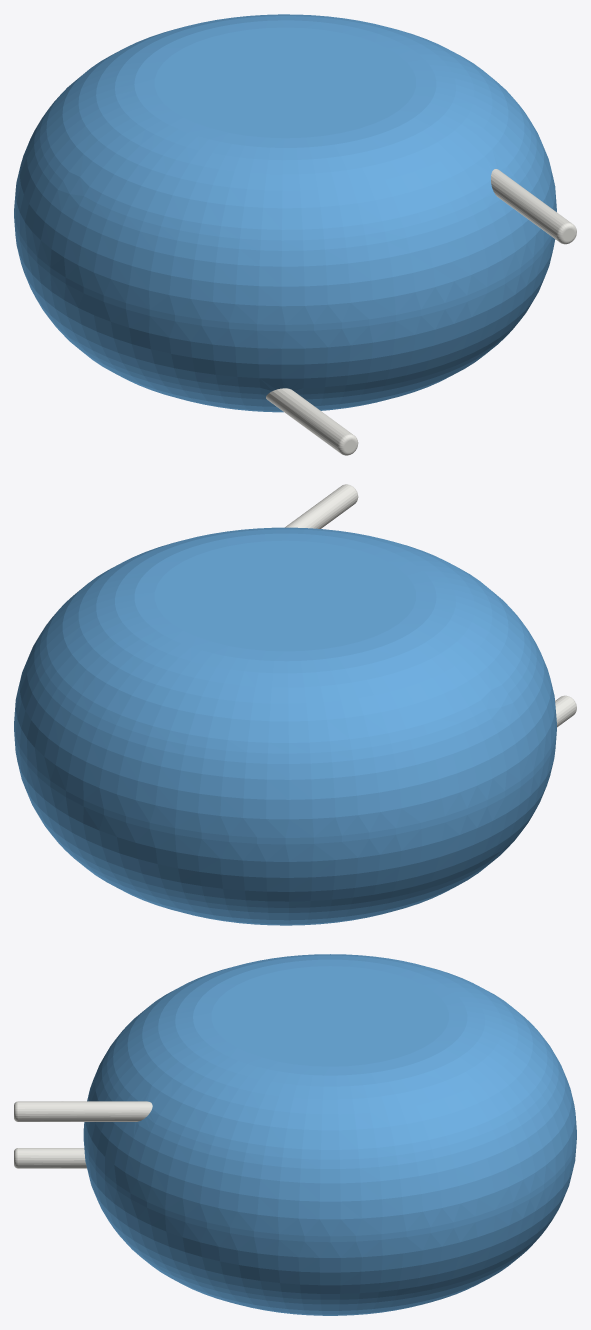
The model's file is RV_Disc_D21.5mm_W11.4mm_P10mm.glb.
3 renders of one model, top to bottom at view 1: azimuth 30°, elevation 25°; view 2: azimuth 150°, elevation 25°; view 3: azimuth 270°, elevation 25°, orthographic. The views are drawn at different scales.
Parts seen in each view (by area): view 1: Shape_IndexedFaceSet.001, Shape_IndexedFaceSet.002, Shape_IndexedFaceSet.003, Shape_IndexedFaceSet, Shape_IndexedFaceSet.004, Shape_IndexedFaceSet.006; view 2: Shape_IndexedFaceSet.001, Shape_IndexedFaceSet.002, Shape_IndexedFaceSet.003, Shape_IndexedFaceSet, Shape_IndexedFaceSet.004; view 3: Shape_IndexedFaceSet.001, Shape_IndexedFaceSet.002, Shape_IndexedFaceSet.003, Shape_IndexedFaceSet, Shape_IndexedFaceSet.004, Shape_IndexedFaceSet.006.
Boxes of the visible parts, box(x1,y1,x2,y2) form: Shape_IndexedFaceSet.001: box(14, 14, 556, 324); Shape_IndexedFaceSet.002: box(14, 218, 555, 412); Shape_IndexedFaceSet.003: box(154, 27, 415, 138); Shape_IndexedFaceSet: box(14, 211, 556, 331); Shape_IndexedFaceSet.004: box(491, 169, 571, 241); Shape_IndexedFaceSet.006: box(266, 388, 352, 452); Shape_IndexedFaceSet.001: box(14, 527, 556, 837); Shape_IndexedFaceSet.002: box(14, 731, 556, 925); Shape_IndexedFaceSet.003: box(154, 540, 415, 651); Shape_IndexedFaceSet: box(14, 725, 556, 844); Shape_IndexedFaceSet.004: box(285, 484, 357, 528); Shape_IndexedFaceSet.001: box(83, 954, 576, 1236); Shape_IndexedFaceSet.002: box(83, 1139, 576, 1315); Shape_IndexedFaceSet.003: box(211, 966, 448, 1066); Shape_IndexedFaceSet: box(83, 1134, 576, 1242); Shape_IndexedFaceSet.004: box(18, 1101, 152, 1121); Shape_IndexedFaceSet.006: box(18, 1148, 86, 1168).
Size of the model in its own units: 8.47 by 4.49 by 9.66.
